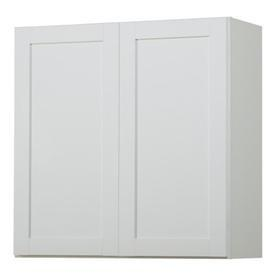cabinet_door: (123, 24, 225, 254), (15, 27, 118, 253)
